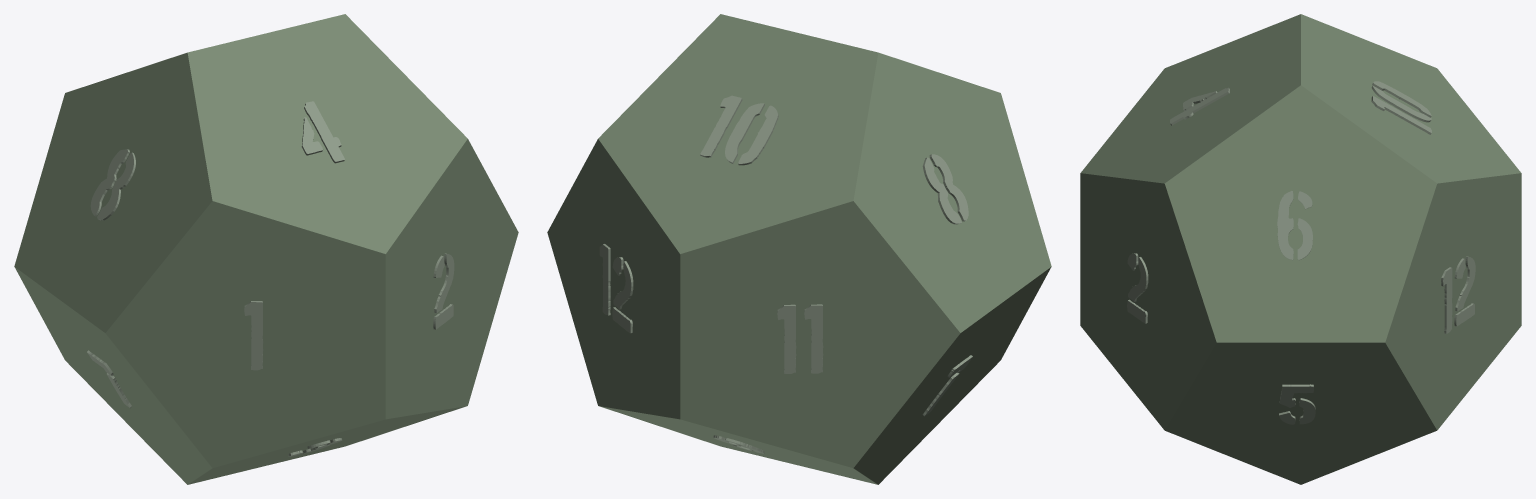
3 renders of one model, left to right at view 1: azimuth 30°, elevation 25°; view 2: azimuth 150°, elevation 25°; view 3: azimuth 270°, elevation 25°, orthographic. The views are drawn at different scales.
Parts seen in each view (by area): view 1: d12, dFace_8_idx_6, dFace_4_idx_0, dFace_2_idx_9, dFace_1_idx_7; view 2: d12, dFace_10_idx_5, dFace_11_idx_3, dFace_8_idx_6, dFace_12_idx_2; view 3: d12, dFace_12_idx_2, dFace_6_idx_1, dFace_10_idx_5, dFace_5_idx_10, dFace_2_idx_9, dFace_4_idx_0.
Part boxes in pixels (left/top/right/bottom): d12: left=14, top=14, right=518, bottom=484; dFace_8_idx_6: left=90, top=149, right=135, bottom=220; dFace_4_idx_0: left=301, top=101, right=344, bottom=163; dFace_2_idx_9: left=433, top=253, right=454, bottom=329; dFace_1_idx_7: left=244, top=301, right=263, bottom=370; d12: left=547, top=14, right=1051, bottom=484; dFace_10_idx_5: left=700, top=95, right=778, bottom=165; dFace_11_idx_3: left=777, top=304, right=823, bottom=373; dFace_8_idx_6: left=922, top=154, right=968, bottom=224; dFace_12_idx_2: left=599, top=244, right=633, bottom=333; d12: left=1080, top=14, right=1521, bottom=484; dFace_12_idx_2: left=1441, top=256, right=1475, bottom=333; dFace_6_idx_1: left=1277, top=191, right=1312, bottom=260; dFace_10_idx_5: left=1371, top=81, right=1431, bottom=134; dFace_5_idx_10: left=1279, top=384, right=1315, bottom=424; dFace_2_idx_9: left=1127, top=253, right=1148, bottom=323; dFace_4_idx_0: left=1170, top=87, right=1229, bottom=125.
Size of the model in its own units: 1.87 by 1.87 by 1.87.
